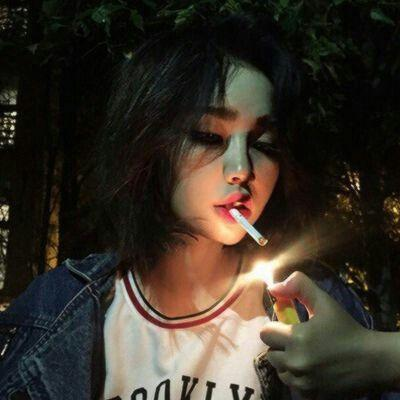cigarette: (227, 207, 268, 247)
